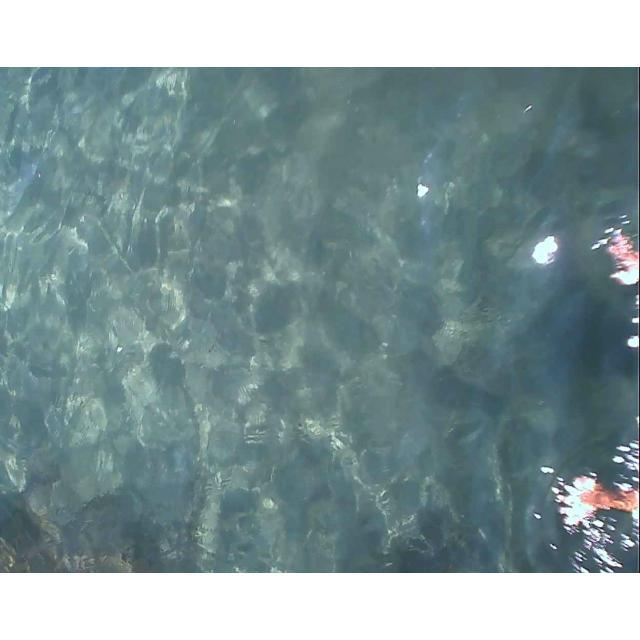human: (555, 440, 635, 565)
